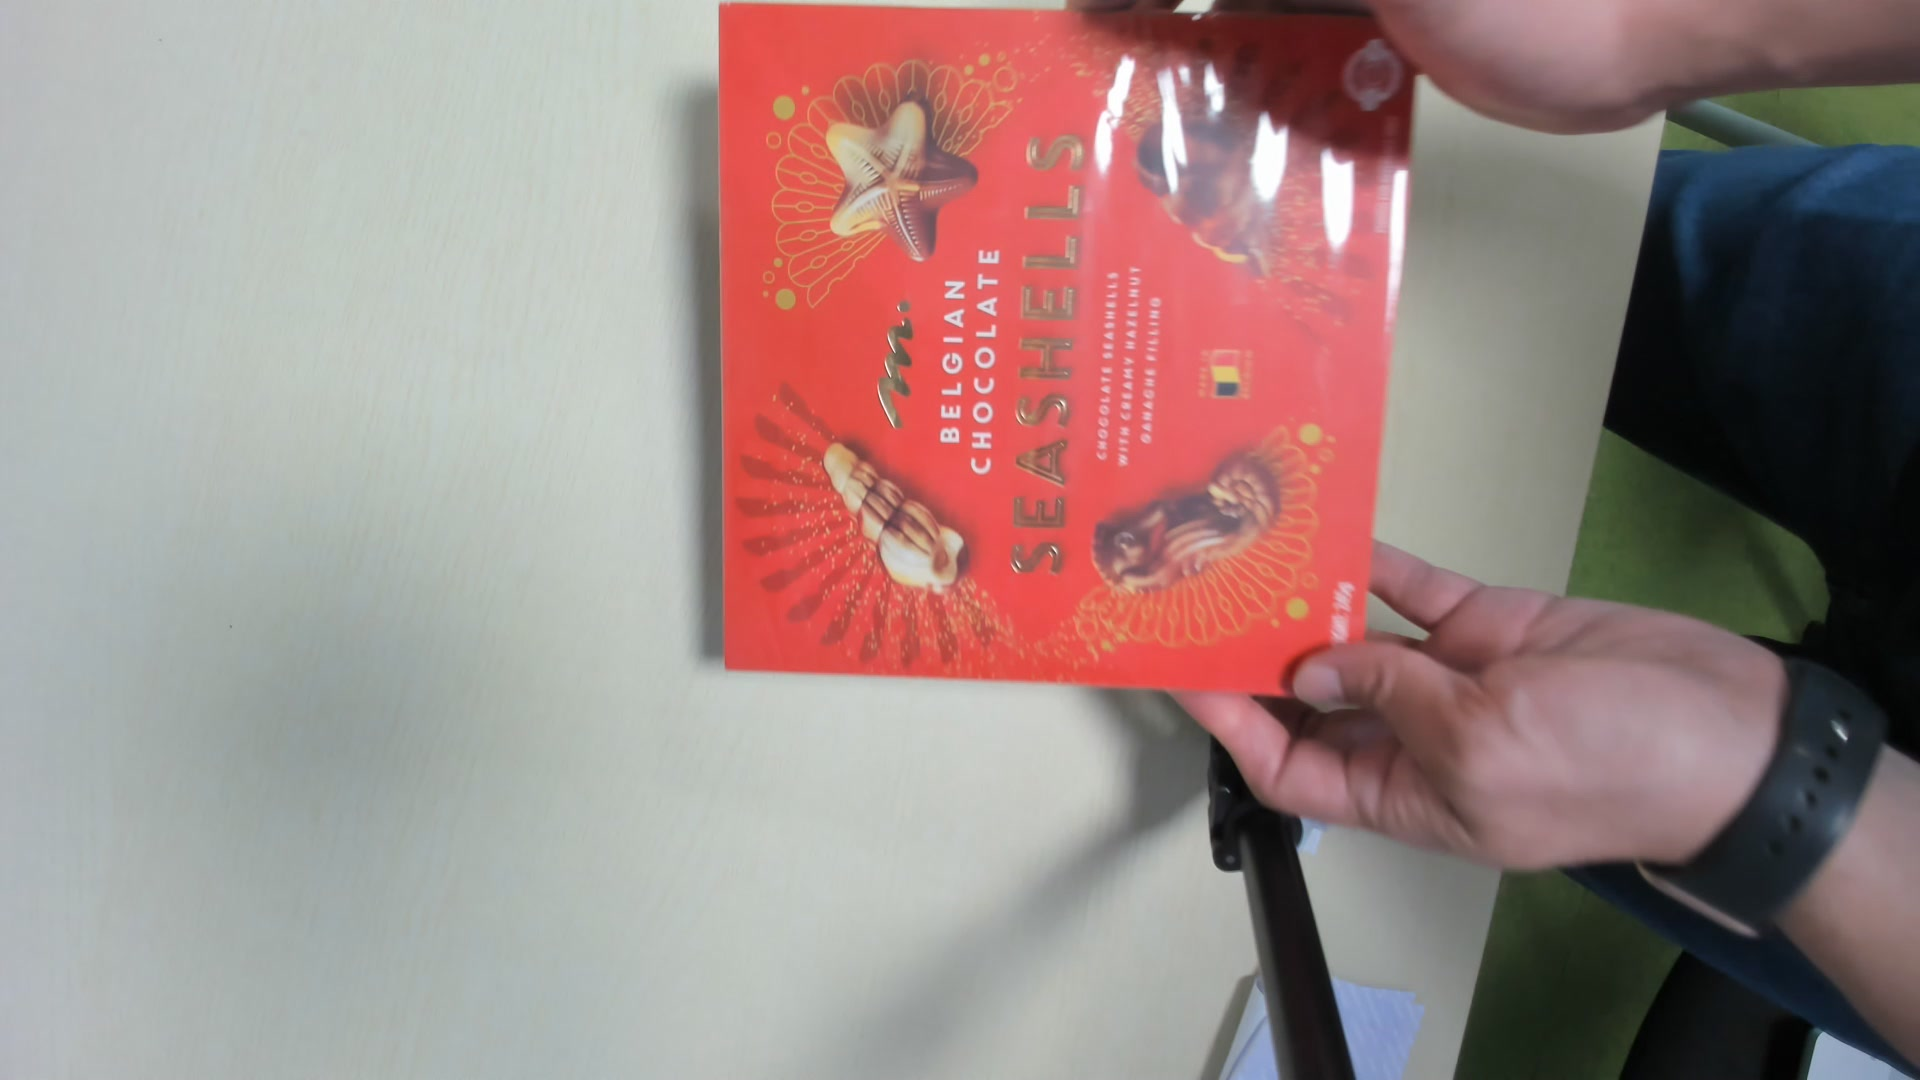SweetsChocolatesOthers_200-299g_Halal_Nonhealthy: (695, 5, 1410, 702)
